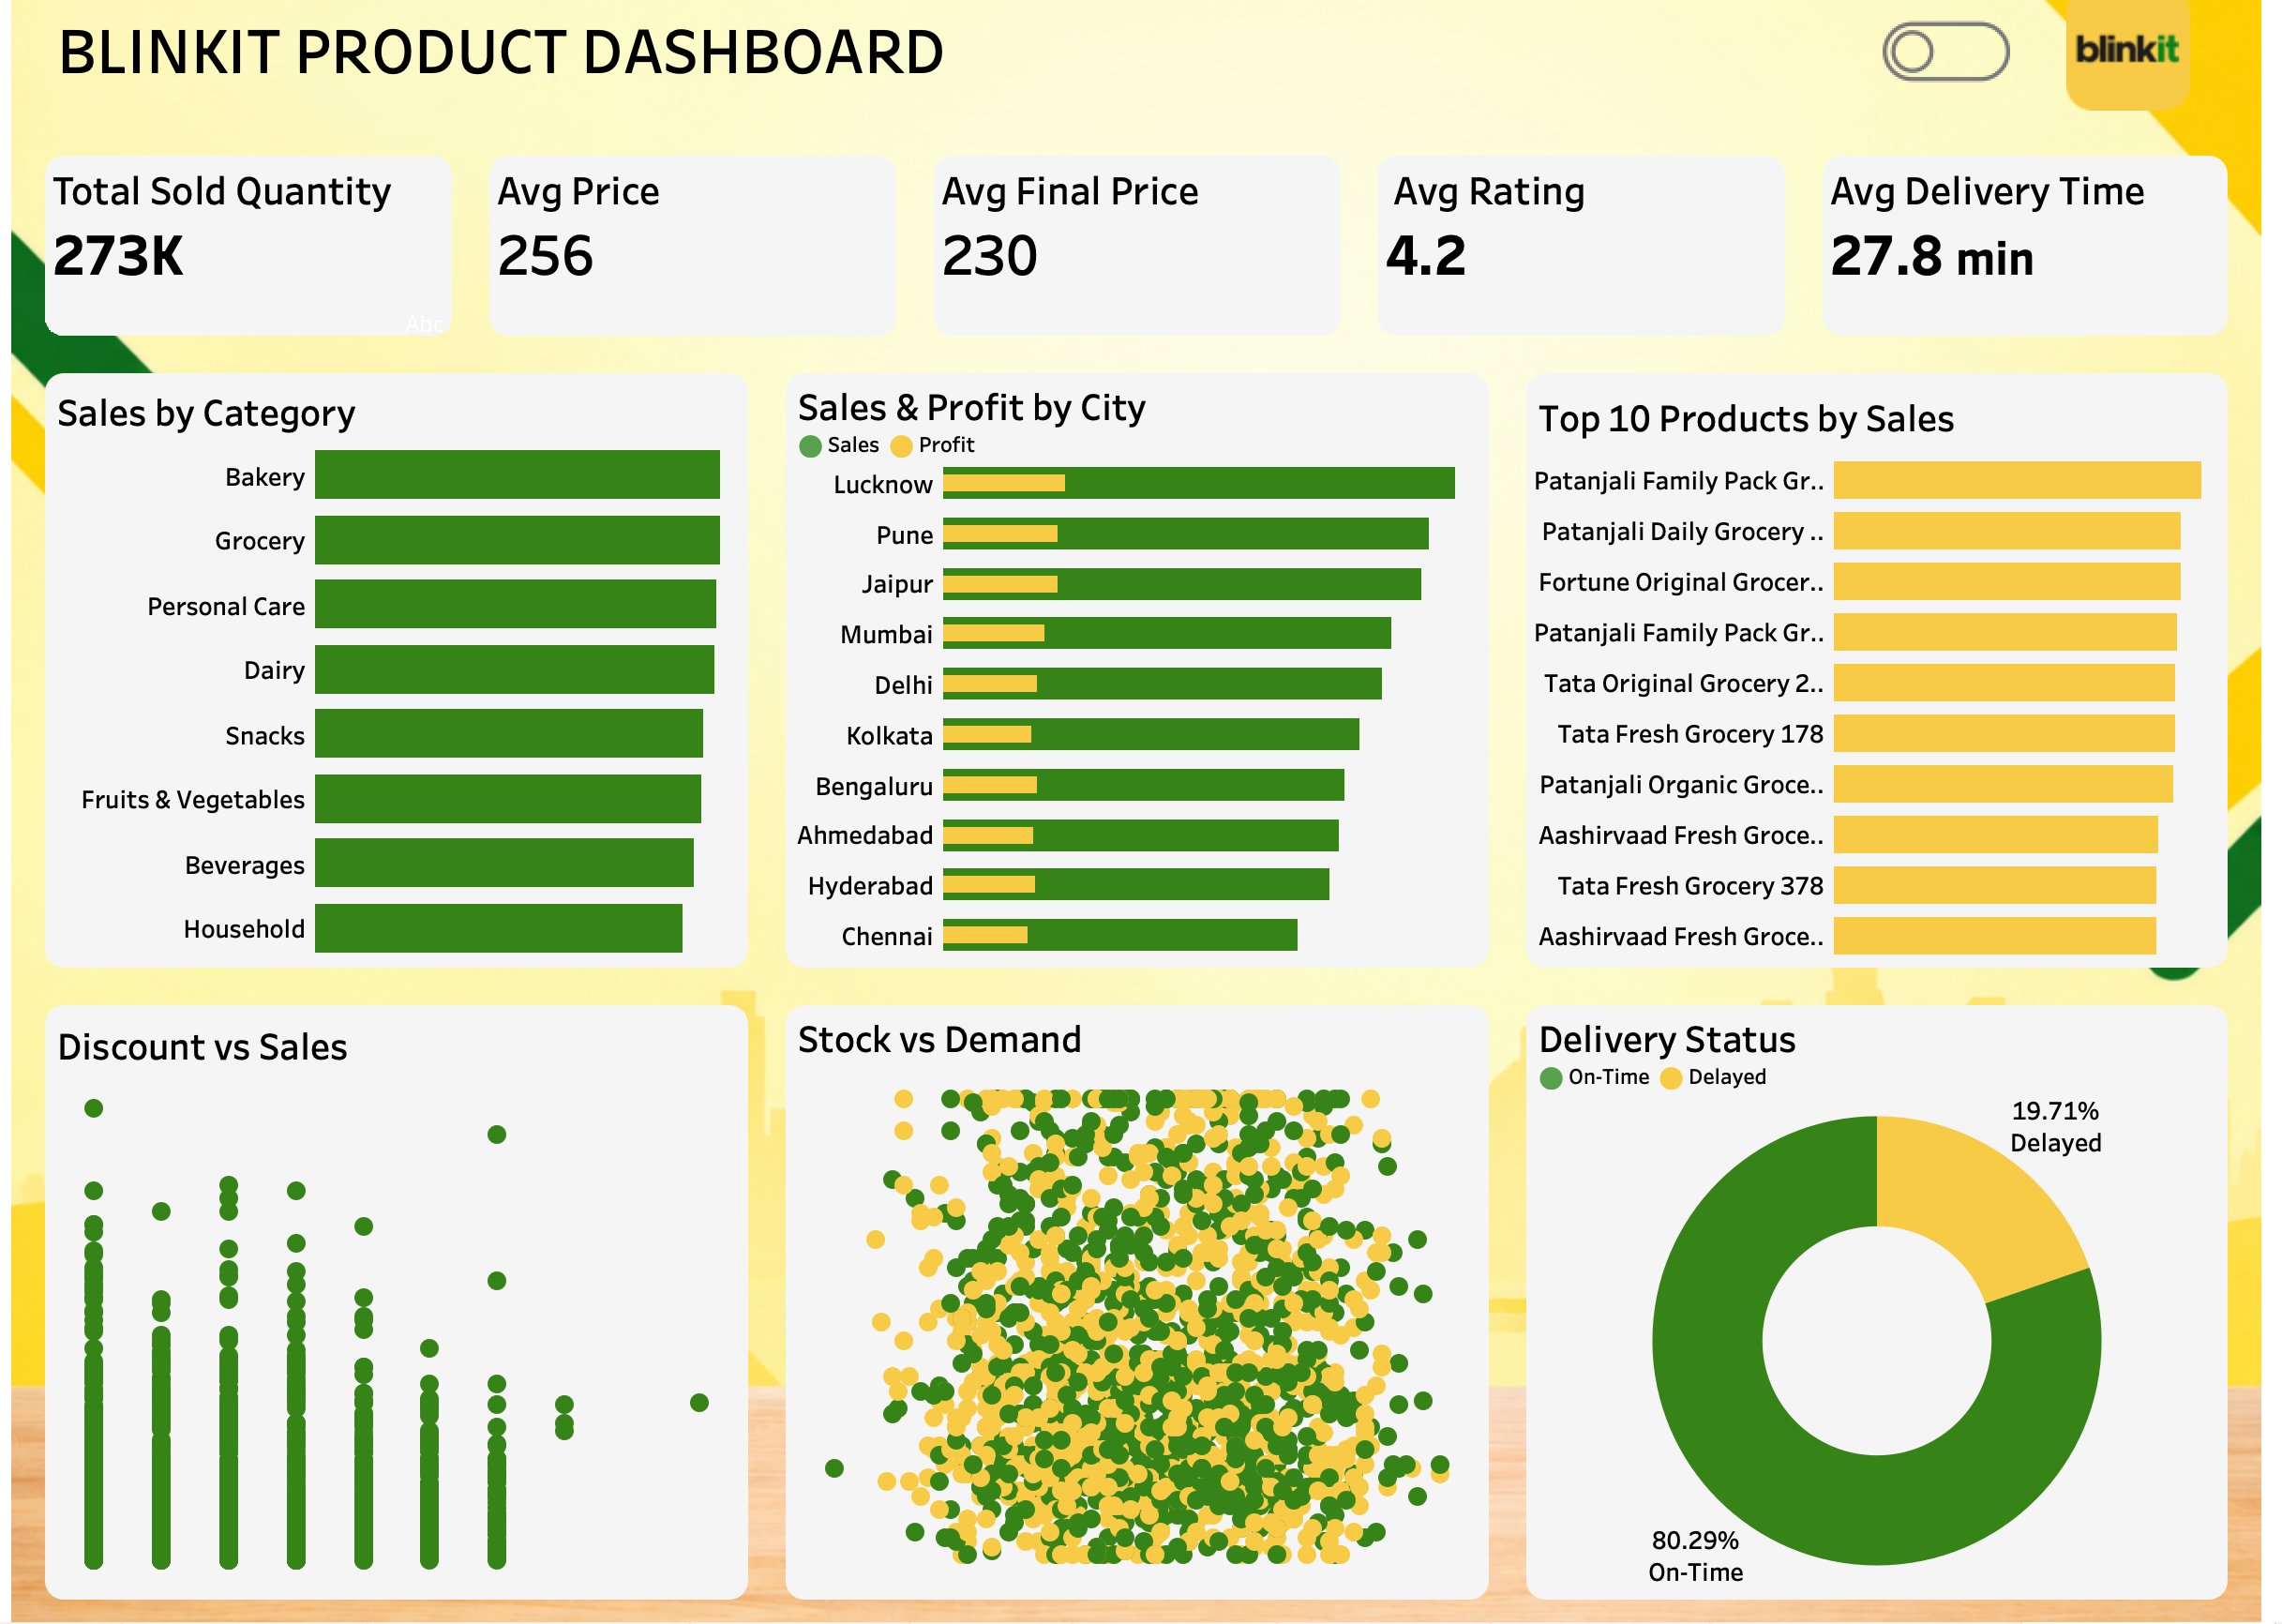

What the dashboard file says about the page in this screenshot:
{"tool":"tableau","page":{"name":"Blinkit DashBoard","canvas":[1200,900],"ordinal":0},"visuals":[{"type":"image","param":"/Users/darshanrn/Downloads/Sunny Delivery Cityscape Background.png","box":[0,0,1200,900]},{"type":"text","box":[18,18,1059,74]},{"type":"image","param":"/Users/darshanrn/Downloads/blinkit-com-logo.png","box":[1077,18,105,74]},{"type":"filter","title":"Sales by Category","param":"[federated.0m77mg91yoekkk12dgzah0hpga7t].[none:category:nk]","box":[1023,19,158,52]},{"type":"dashboard-object","box":[997,21,70,70]},{"type":"filter","title":"Sales by City","param":"[federated.0m77mg91yoekkk12dgzah0hpga7t].[none:city:nk]","box":[1023,71,158,52]},{"type":"worksheet","title":"KPI - Total Sold","mark":"Automatic","box":[8,102,237,116]},{"type":"worksheet","title":"KPI - Avg Price","mark":"Automatic","box":[245,102,237,116]},{"type":"worksheet","title":"KPI - Average Final Price","mark":"Automatic","box":[482,102,237,116]},{"type":"worksheet","title":"KPI - Average Rating","mark":"Automatic","box":[719,102,237,116]},{"type":"worksheet","title":"KPI - Average Delivery Time","mark":"Automatic","box":[956,102,236,116]},{"type":"parameter","param":"[Parameters].[Parameter 4932667024334857]","box":[1023,123,158,52]},{"type":"filter","title":"Delivery Time Distribution ","param":"[federated.0m77mg91yoekkk12dgzah0hpga7t].[none:delivery_status:nk]","box":[1023,175,158,52]},{"type":"text","box":[18,228,375,37]},{"type":"text","box":[413,228,375,30]},{"type":"text","box":[808,228,374,43]},{"type":"text","box":[413,258,375,15]},{"type":"worksheet","title":"Sales by Category","mark":"Automatic","rows":["category"],"cols":["sold_quantity"],"box":[18,265,375,280]},{"type":"worksheet","title":"Top 10 Products","mark":"Bar","rows":["product_name"],"cols":["sold_quantity"],"box":[808,271,374,274]},{"type":"worksheet","title":"Sales by City","mark":"Bar","rows":["city"],"cols":["Calculation_5298393484029952","Calculation_4932667021910018"],"box":[413,273,375,272]},{"type":"text","box":[18,565,375,38]},{"type":"text","box":[413,565,375,30]},{"type":"text","box":[808,565,374,30]},{"type":"worksheet","title":"Stock by Demand ","mark":"Circle","rows":["demand_index"],"cols":["stock"],"box":[413,595,375,287]},{"type":"text","box":[808,595,374,15]},{"type":"worksheet","title":"Discount vs Sales","mark":"Circle","rows":["Calculation_5298393484029952"],"cols":["discount_pct"],"box":[18,603,375,279]},{"type":"worksheet","title":"Delivery Time Distribution ","mark":"Pie","cols":["Calculation_5298393511993353","Calculation_5298393511993353"],"box":[808,610,374,272]}]}

Visuals, with their boxes on the page's 1200x900 design canvas (x1, y1, x2, y2). These are canvas units, not pixel positions in the 2282x1624 screenshot, which may show the page scaled, cropped or inside an application window:
image: {"left": 0, "top": 0, "right": 1200, "bottom": 900}
text: {"left": 18, "top": 18, "right": 1077, "bottom": 92}
image: {"left": 1077, "top": 18, "right": 1182, "bottom": 92}
"Sales by Category" filter: {"left": 1023, "top": 19, "right": 1181, "bottom": 71}
dashboard-object: {"left": 997, "top": 21, "right": 1067, "bottom": 91}
"Sales by City" filter: {"left": 1023, "top": 71, "right": 1181, "bottom": 123}
"KPI - Total Sold" worksheet: {"left": 8, "top": 102, "right": 245, "bottom": 218}
"KPI - Avg Price" worksheet: {"left": 245, "top": 102, "right": 482, "bottom": 218}
"KPI - Average Final Price" worksheet: {"left": 482, "top": 102, "right": 719, "bottom": 218}
"KPI - Average Rating" worksheet: {"left": 719, "top": 102, "right": 956, "bottom": 218}
"KPI - Average Delivery Time" worksheet: {"left": 956, "top": 102, "right": 1192, "bottom": 218}
parameter: {"left": 1023, "top": 123, "right": 1181, "bottom": 175}
"Delivery Time Distribution " filter: {"left": 1023, "top": 175, "right": 1181, "bottom": 227}
text: {"left": 18, "top": 228, "right": 393, "bottom": 265}
text: {"left": 413, "top": 228, "right": 788, "bottom": 258}
text: {"left": 808, "top": 228, "right": 1182, "bottom": 271}
text: {"left": 413, "top": 258, "right": 788, "bottom": 273}
"Sales by Category" worksheet: {"left": 18, "top": 265, "right": 393, "bottom": 545}
"Top 10 Products" worksheet (Bar marks): {"left": 808, "top": 271, "right": 1182, "bottom": 545}
"Sales by City" worksheet (Bar marks): {"left": 413, "top": 273, "right": 788, "bottom": 545}
text: {"left": 18, "top": 565, "right": 393, "bottom": 603}
text: {"left": 413, "top": 565, "right": 788, "bottom": 595}
text: {"left": 808, "top": 565, "right": 1182, "bottom": 595}
"Stock by Demand " worksheet (Circle marks): {"left": 413, "top": 595, "right": 788, "bottom": 882}
text: {"left": 808, "top": 595, "right": 1182, "bottom": 610}
"Discount vs Sales" worksheet (Circle marks): {"left": 18, "top": 603, "right": 393, "bottom": 882}
"Delivery Time Distribution " worksheet (Pie marks): {"left": 808, "top": 610, "right": 1182, "bottom": 882}
